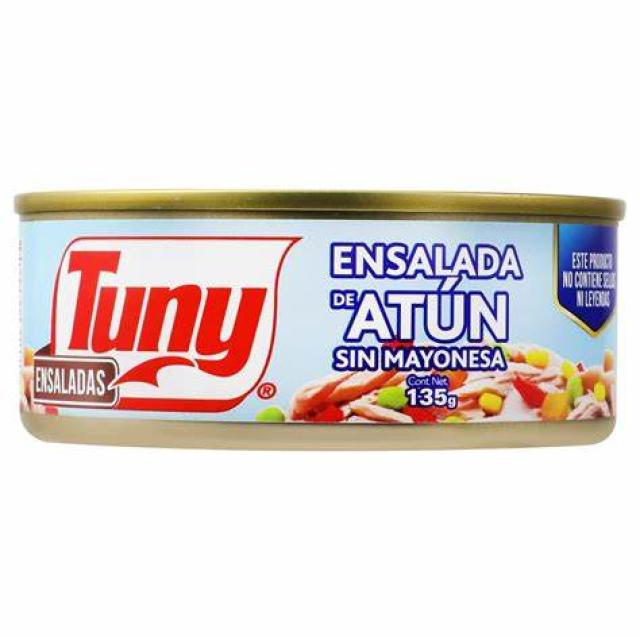Lata: (8, 186, 619, 450)
